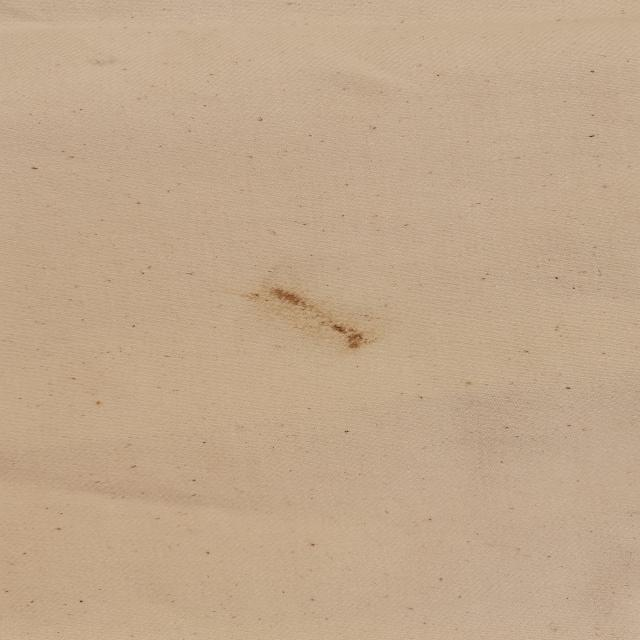taaaches: (228, 276, 390, 351)
